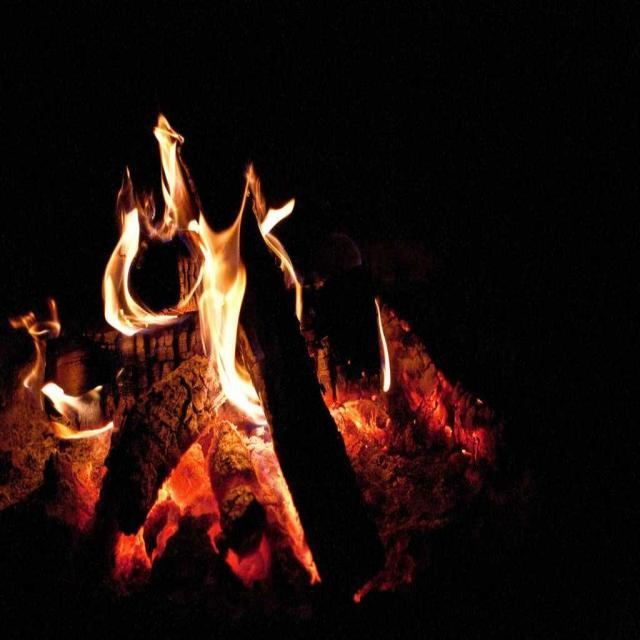Fire: (93, 96, 319, 406), (19, 300, 114, 445), (366, 288, 399, 396)
